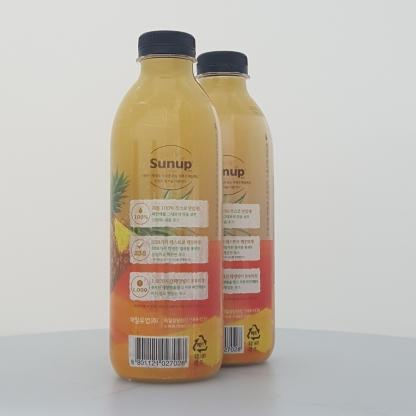----100_----750ML: (109, 30, 223, 384), (174, 51, 275, 369)
